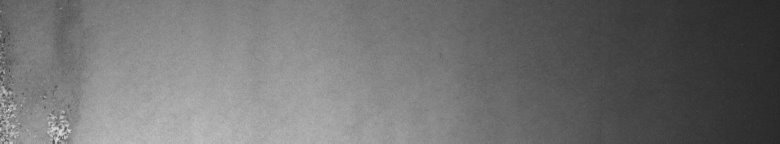hc: (4, 32, 80, 136)
